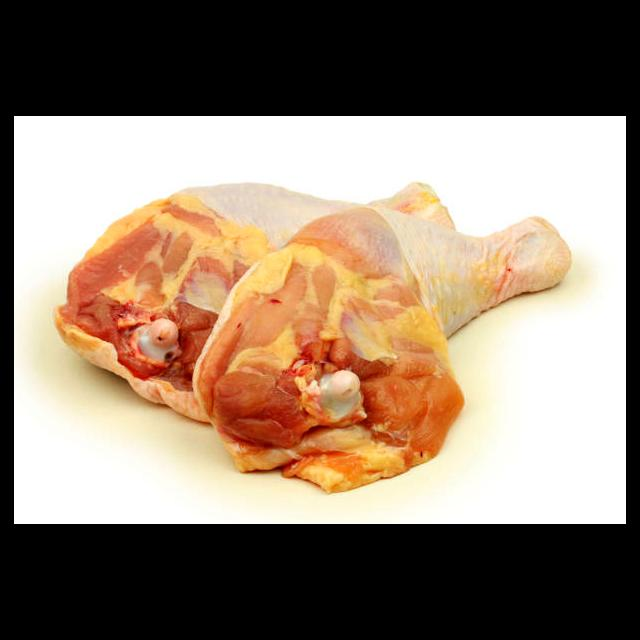chicken: (52, 174, 572, 495)
